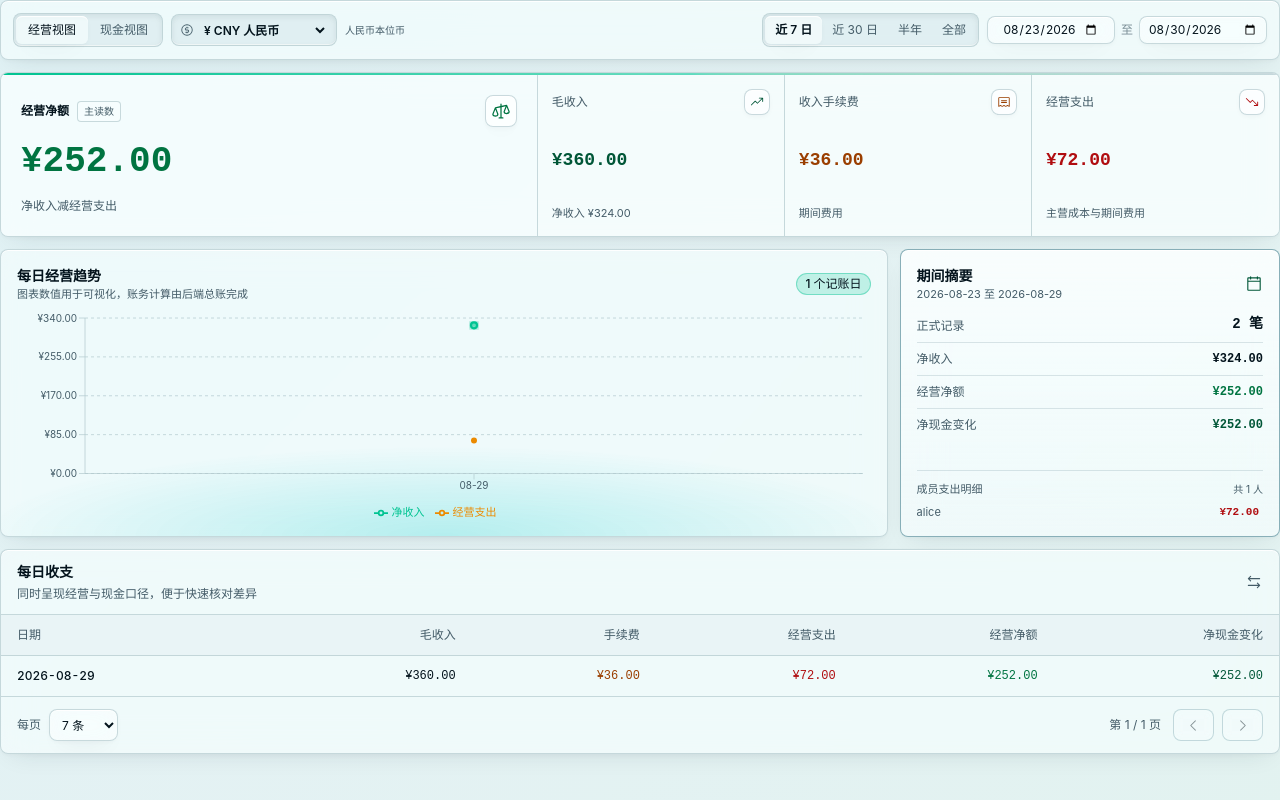
Test: Overview currency display › falls back to the last successful currency after a failed switch
Select "$ USD 美元" in the dropdown named "总览显示币种" at (264, 30), box [200, 16, 328, 44]
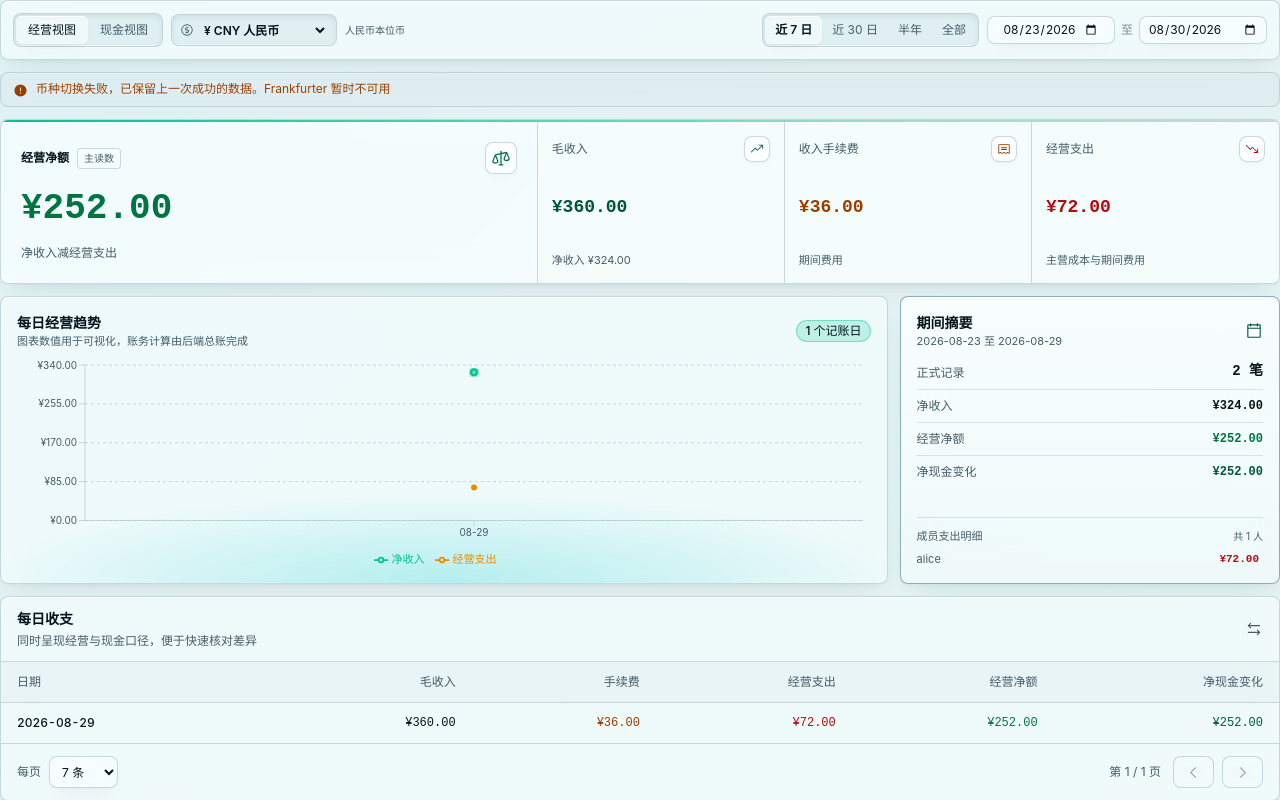
expect the text "币种切换失败，已保留上一次成功的数据。Frankfurter 暂时不可用" is shown: met, box [36, 81, 391, 97]
